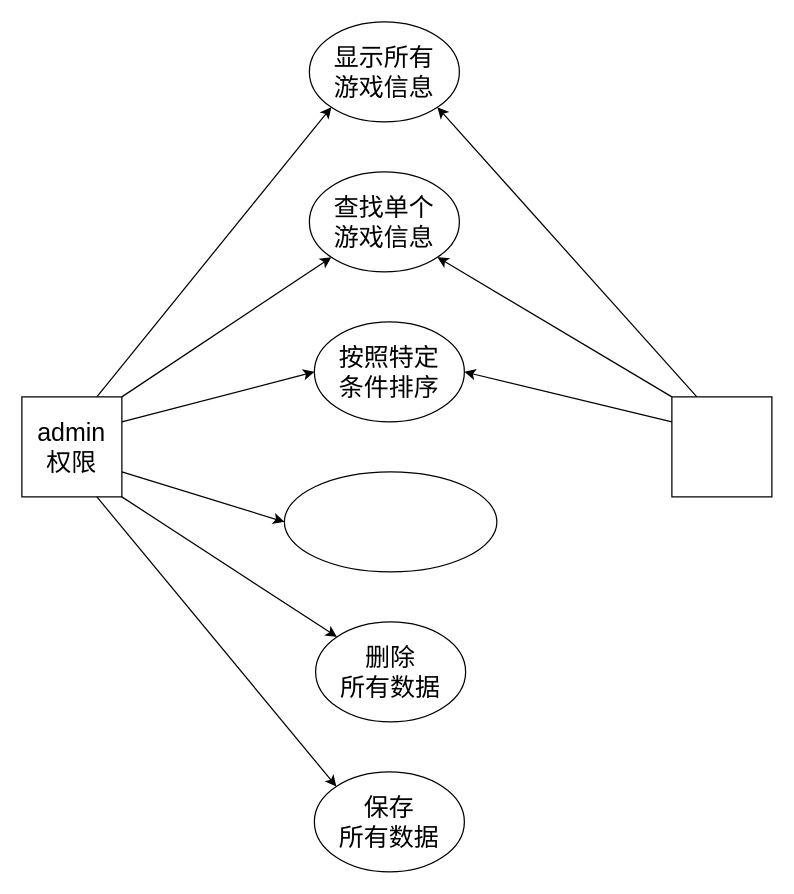
Some shapes in this 794 by 894 pixel diagram are drawn without their labels. Each missing label, with the centre of its shape:
"user 权限" belongs at point (721, 446).
"添加 删除 修改 游戏信息" belongs at point (390, 521).
